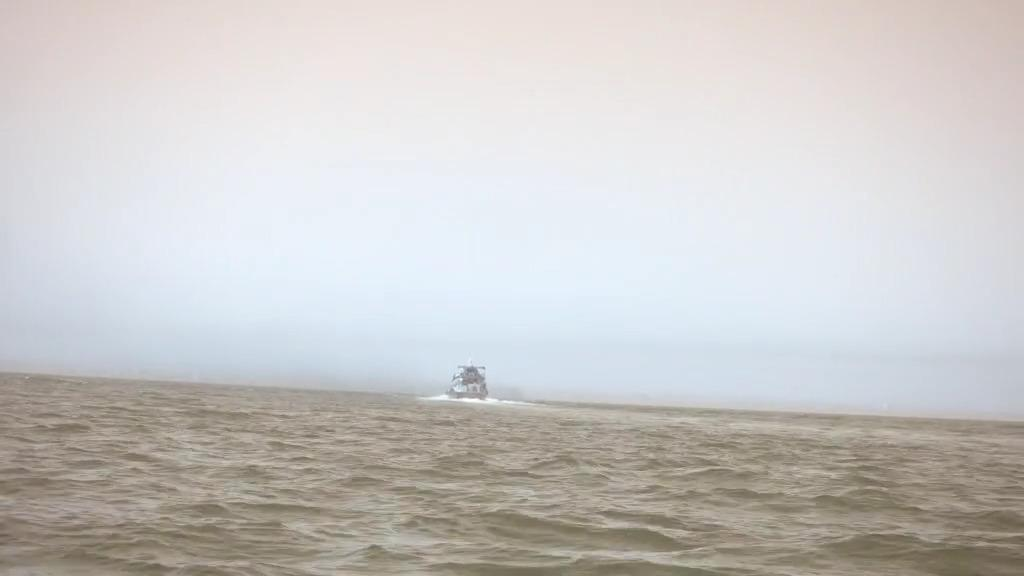PassengerShip: (442, 354, 492, 405)
